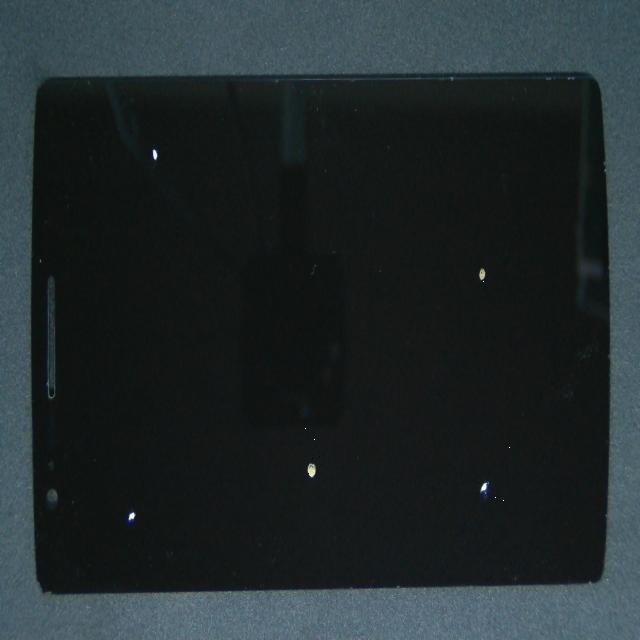stain: (205, 260, 640, 640), (132, 244, 457, 640), (260, 86, 640, 384), (51, 247, 176, 640), (55, 52, 208, 249)
